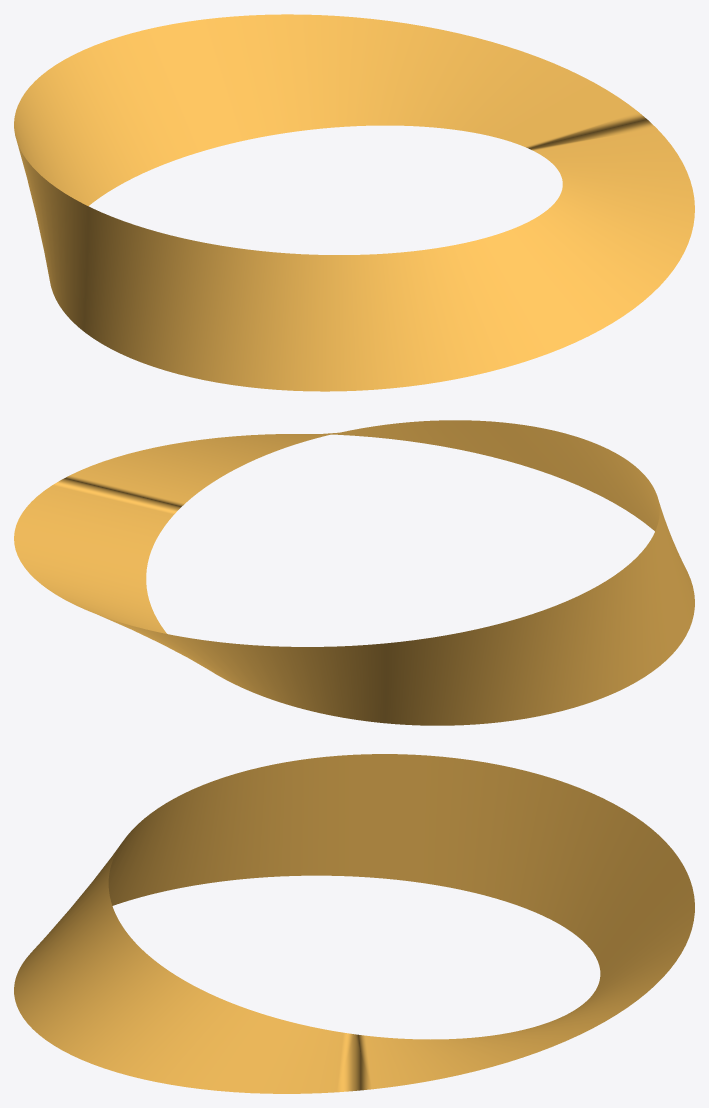
The model's file is mobius-strip-quality.glb.
3 renders of one model, top to bottom at view 1: azimuth 30°, elevation 25°; view 2: azimuth 150°, elevation 25°; view 3: azimuth 270°, elevation 25°, orthographic.
Visible parts, largest first — view 1: Mobius strip; view 2: Mobius strip; view 3: Mobius strip.
Boxes of the visible parts, left/top/right/bottom form: Mobius strip: left=14, top=14, right=694, bottom=391; Mobius strip: left=14, top=420, right=694, bottom=725; Mobius strip: left=14, top=754, right=694, bottom=1093.
Size of the model in its own units: 2.24 by 0.46 by 2.33.
